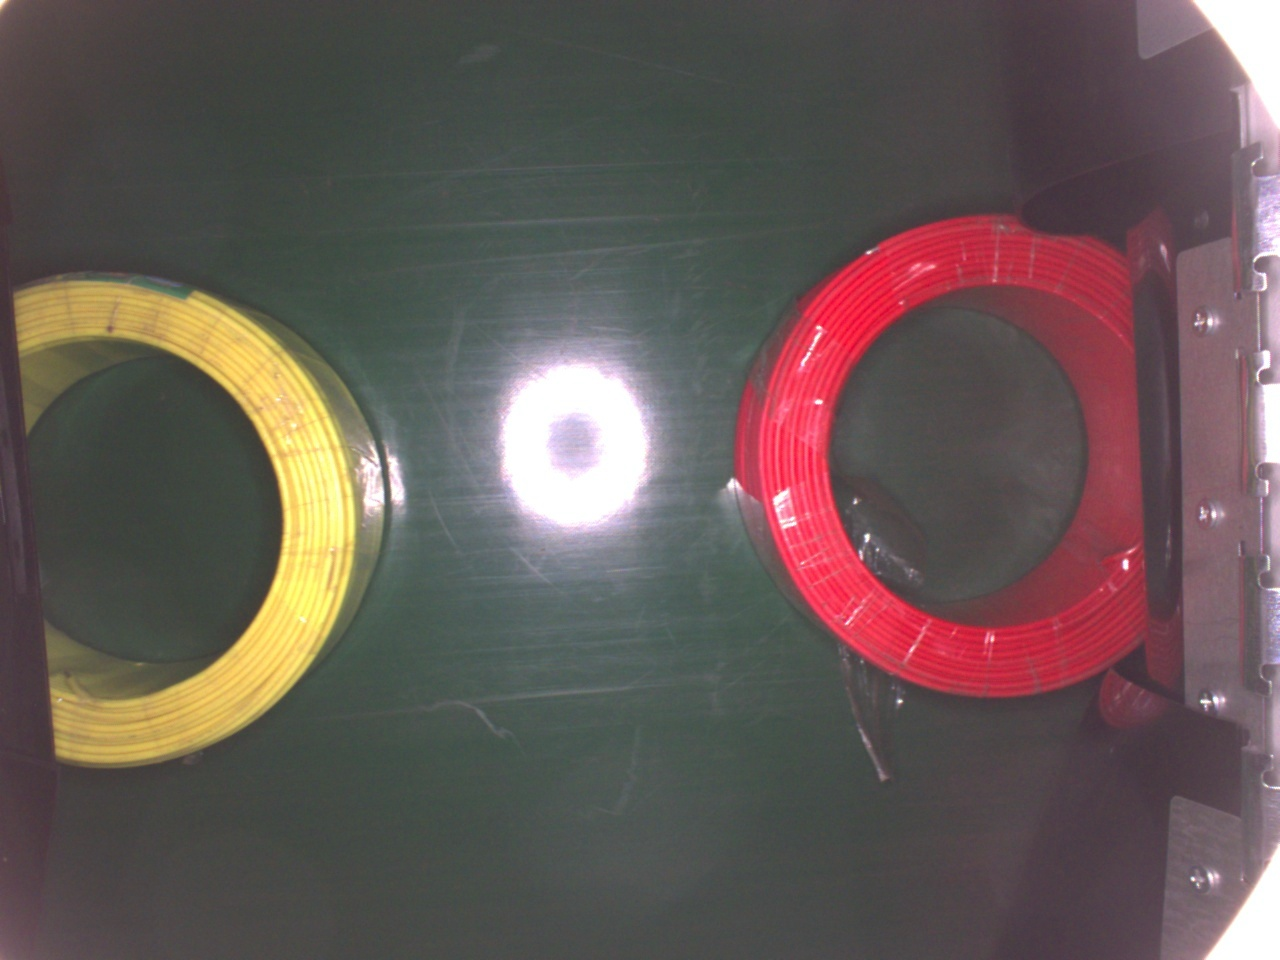red: (741, 213, 1172, 702)
yellow: (10, 270, 389, 772)
